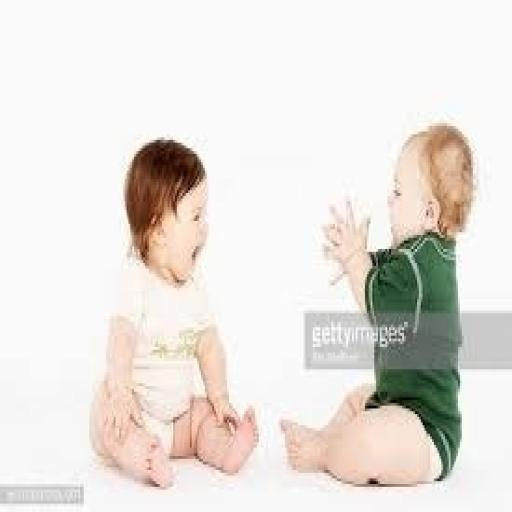clapping: (278, 120, 478, 490)
